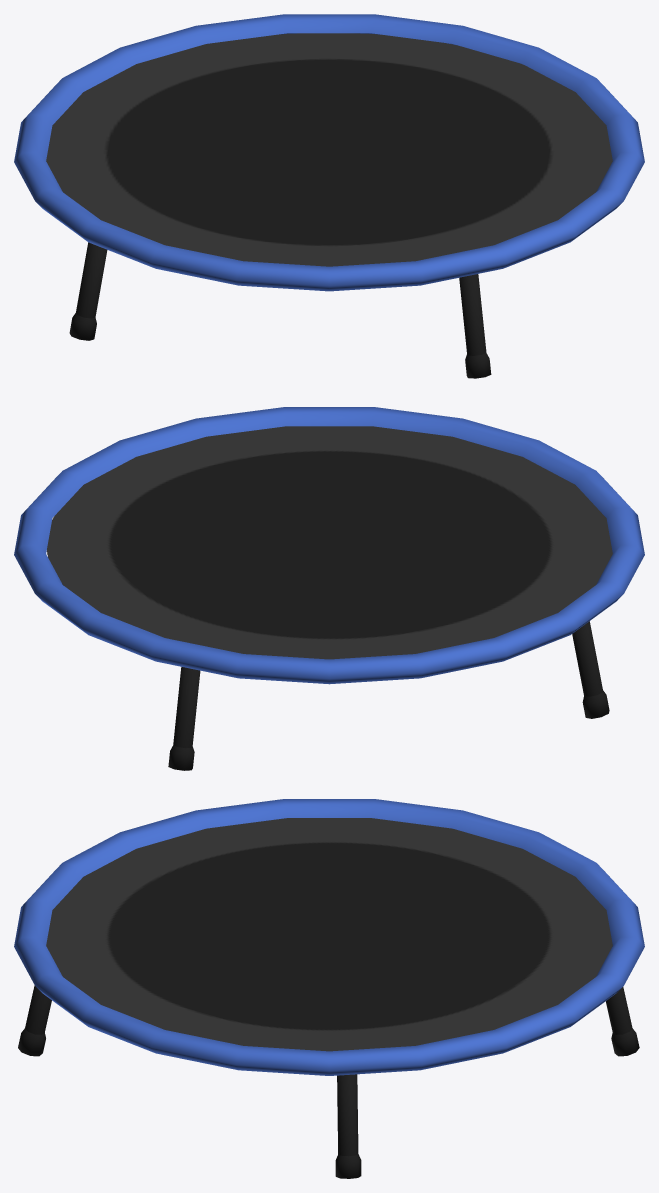
The model's file is trampoline.fbx.
The picture shows the model from 3 angles, top to bottom: view 1: azimuth 30°, elevation 25°; view 2: azimuth 150°, elevation 25°; view 3: azimuth 270°, elevation 25°; orthographic projection.
Parts seen in each view (by area): view 1: trampoline; view 2: trampoline; view 3: trampoline.
Part boxes in pixels (bbox=[...]): trampoline: bbox=[14, 14, 644, 378]; trampoline: bbox=[14, 407, 644, 770]; trampoline: bbox=[14, 799, 644, 1178].
Bounding box in the file's own units: 664 × 146 × 666.
